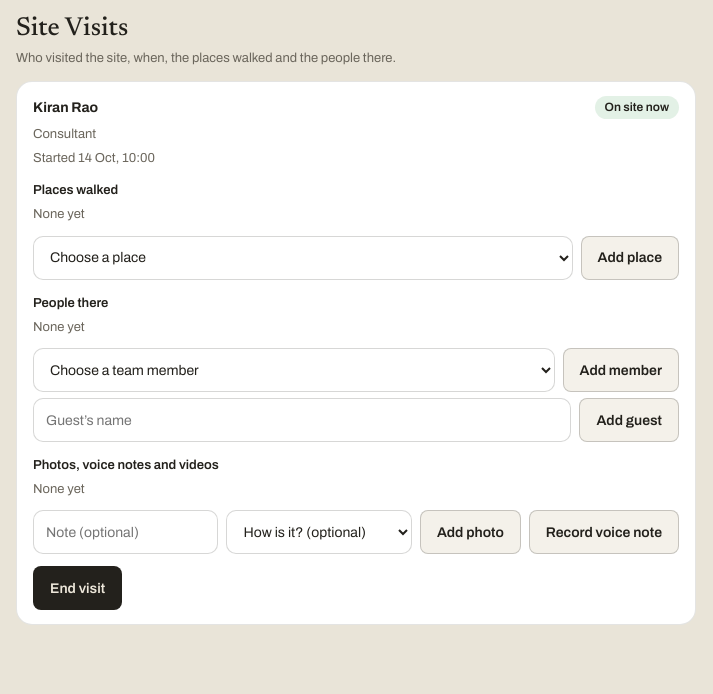
Test: Stage 1 voice notes on a visit › keeps nothing on Discard and lets the microphone go
Click the button "Record voice note" at (604, 532), box [529, 510, 679, 554]
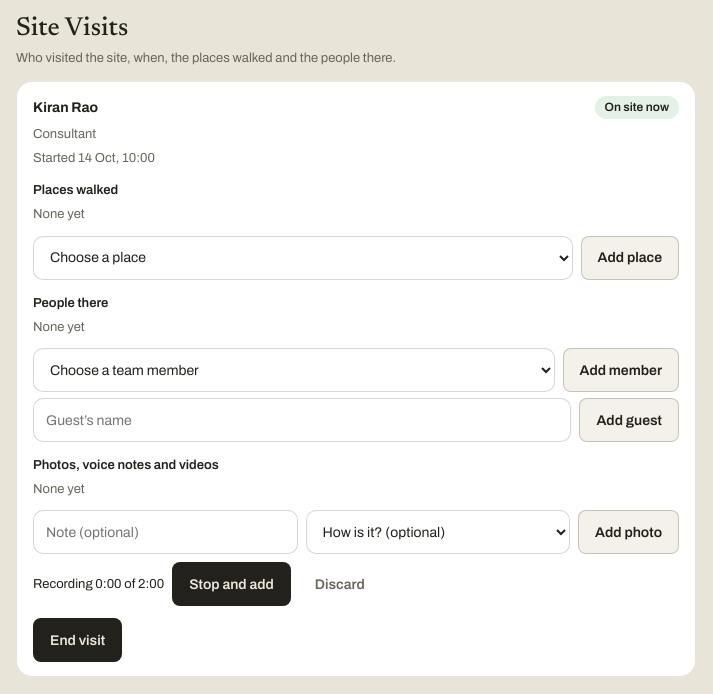
Now the message with test id "sv-recording-v-1" shows "Recording 0:00 of 2:00", box [33, 562, 381, 606]
Click the button "Discard" at (340, 584), box [299, 562, 381, 606]
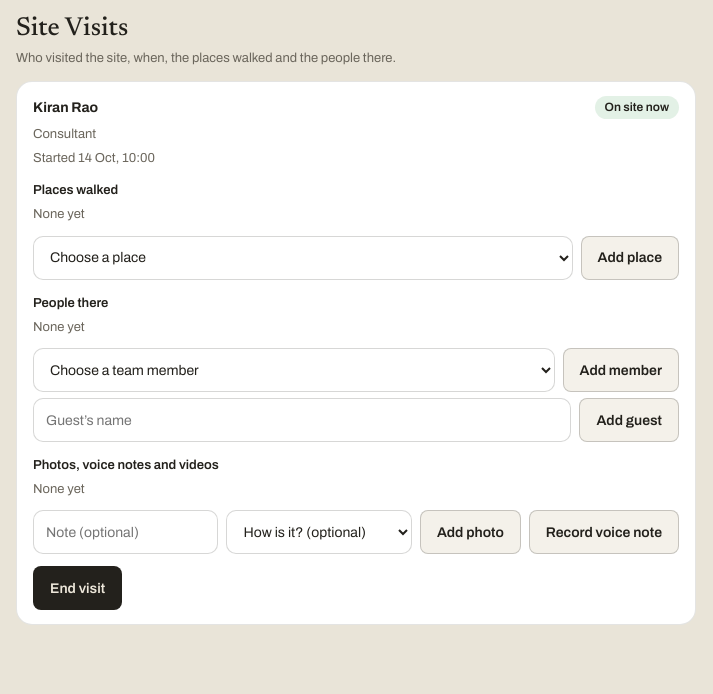
Now the button "Record voice note" is shown, box [529, 510, 679, 554]
